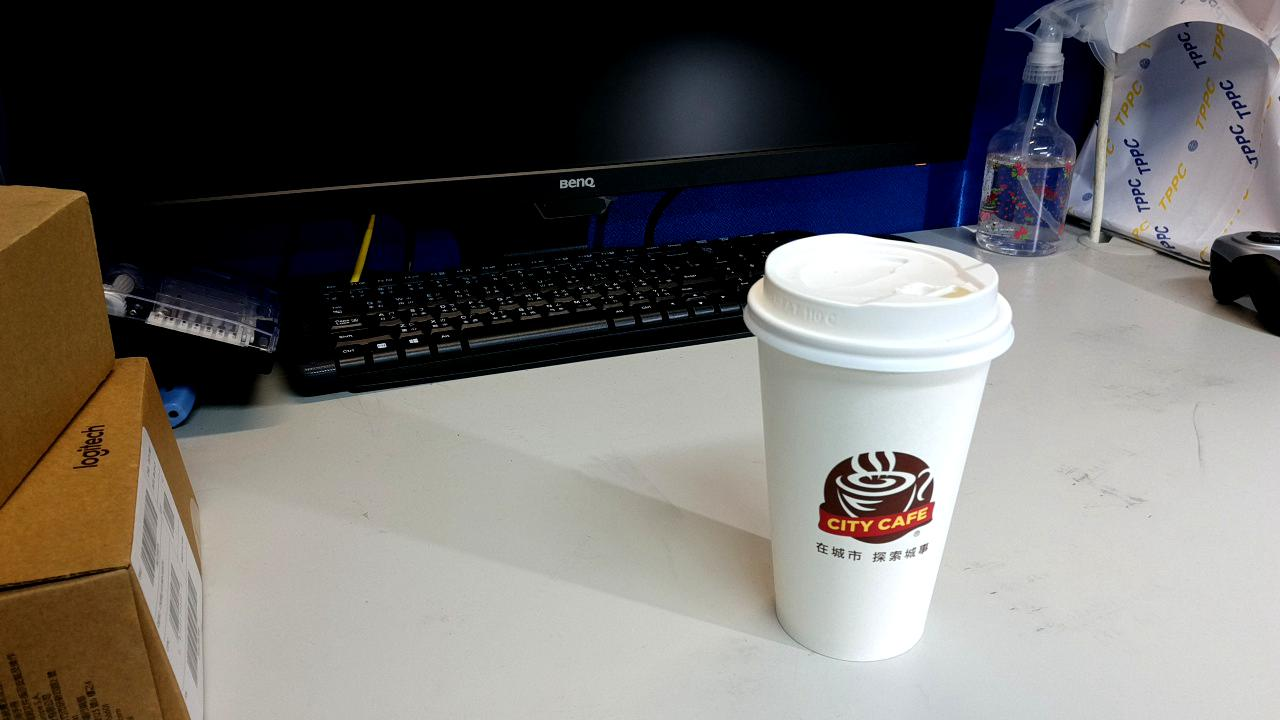columnar: (597, 387, 850, 712)
grip: (514, 478, 614, 661)
